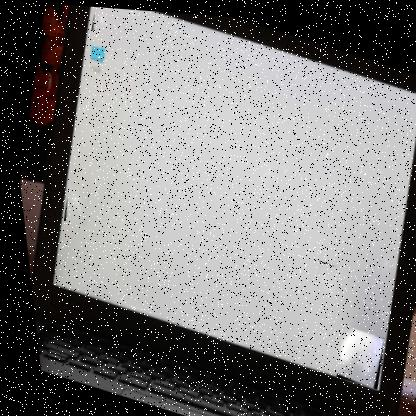spot: (322, 319, 382, 386), (54, 182, 90, 228), (304, 256, 336, 294), (88, 5, 118, 37)
